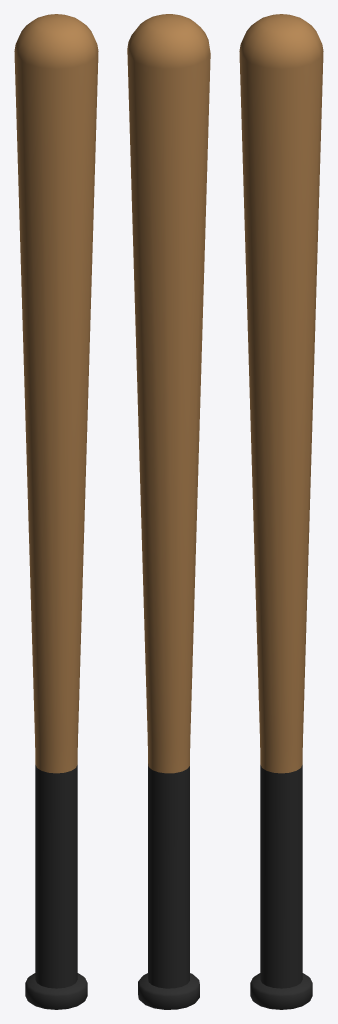
File: Baseballschlaeger_Mesh.fbx
3 renders of one model, left to right at view 1: azimuth 90°, elevation 25°; view 2: azimuth 150°, elevation 25°; view 3: azimuth 270°, elevation 25°, orthographic.
Visible parts, largest first — view 1: Baseballschlaeger; view 2: Baseballschlaeger; view 3: Baseballschlaeger.
Part boxes in pixels (x1,y1,x2,y2): Baseballschlaeger: (14,14,98,1009); Baseballschlaeger: (127,14,210,1009); Baseballschlaeger: (239,14,323,1009).
Bounding box in the file's own units: 8 × 103 × 8.
